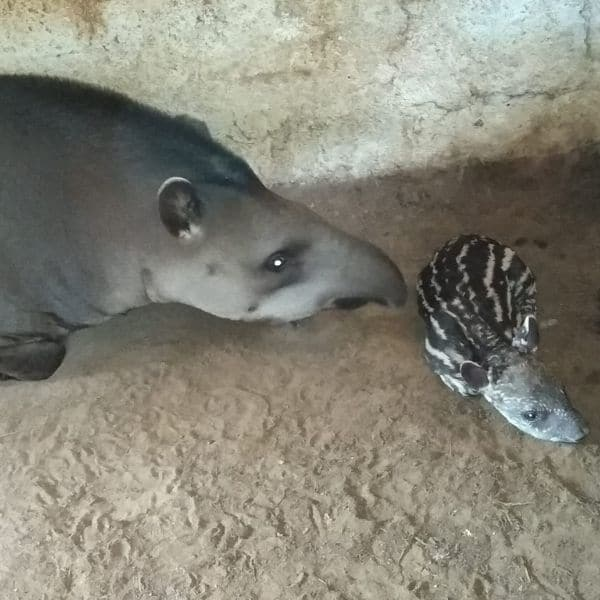Anta: (5, 57, 411, 399), (413, 207, 591, 461)
